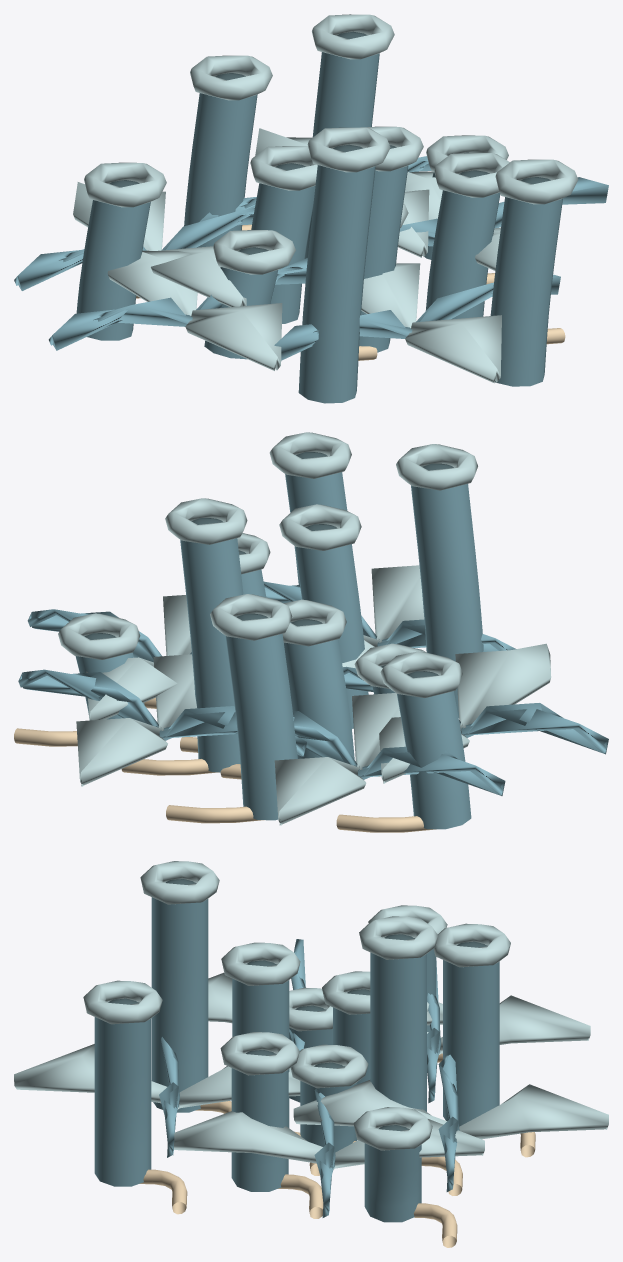
File: bio_thermal_colony_10_far.glb
3 renders of one model, top to bottom at view 1: azimuth 30°, elevation 25°; view 2: azimuth 150°, elevation 25°; view 3: azimuth 270°, elevation 25°, orthographic. The views are drawn at different scales.
Visible parts, largest first — view 1: Chimney biofilm.007, Chimney biofilm.010, Chimney biofilm.006, Low buttress leaf.017, Low buttress leaf.009, Chimney biofilm.009, Chimney biofilm.005, Low buttress leaf.005, Chimney biofilm.003, Chimney biofilm.001, Low buttress leaf.016, Chimney biofilm.002 (+17 smaller); view 2: Chimney biofilm.007, Chimney biofilm.006, Chimney biofilm.003, Chimney biofilm.009, Low buttress leaf.005, Low buttress leaf.017, Low buttress leaf.013, Low buttress leaf.012, Chimney biofilm.001, Chimney biofilm.002, Low buttress leaf.004, Low buttress leaf.001 (+21 smaller); view 3: Chimney biofilm.007, Chimney biofilm.010, Chimney biofilm.003, Chimney biofilm.006, Low buttress leaf.013, Low buttress leaf.001, Chimney biofilm.005, Low buttress leaf.009, Chimney biofilm.008, Low buttress leaf.005, Chimney biofilm.002, Open vent rim.002 (+23 smaller).
Boxes of the visible parts, bbox=[...] form: Chimney biofilm.007: bbox=[298, 165, 375, 403]; Chimney biofilm.010: bbox=[490, 197, 562, 386]; Chimney biofilm.006: bbox=[184, 93, 257, 247]; Low buttress leaf.017: bbox=[107, 250, 282, 370]; Low buttress leaf.009: bbox=[361, 263, 501, 383]; Chimney biofilm.009: bbox=[76, 200, 150, 340]; Chimney biofilm.005: bbox=[425, 190, 500, 319]; Low buttress leaf.005: bbox=[73, 182, 246, 307]; Chimney biofilm.003: bbox=[305, 52, 379, 258]; Chimney biofilm.001: bbox=[251, 183, 315, 323]; Low buttress leaf.016: bbox=[48, 258, 307, 350]; Chimney biofilm.002: bbox=[359, 166, 408, 352]; Chimney biofilm.007: bbox=[411, 484, 483, 718]; Chimney biofilm.006: bbox=[225, 616, 297, 820]; Chimney biofilm.003: bbox=[180, 521, 243, 772]; Chimney biofilm.009: bbox=[397, 674, 471, 829]; Low buttress leaf.005: bbox=[274, 693, 400, 825]; Low buttress leaf.017: bbox=[379, 643, 551, 783]; Low buttress leaf.013: bbox=[76, 654, 196, 786]; Low buttress leaf.012: bbox=[18, 669, 306, 756]; Chimney biofilm.001: bbox=[284, 622, 354, 759]; Chimney biofilm.002: bbox=[295, 527, 368, 728]; Low buttress leaf.004: bbox=[292, 711, 505, 795]; Low buttress leaf.001: bbox=[86, 595, 191, 720]; Chimney biofilm.007: bbox=[151, 882, 208, 1112]; Chimney biofilm.010: bbox=[94, 1002, 151, 1186]; Chimney biofilm.003: bbox=[370, 938, 426, 1111]; Chimney biofilm.006: bbox=[443, 945, 499, 1126]; Low buttress leaf.013: bbox=[293, 1080, 608, 1139]; Low buttress leaf.001: bbox=[174, 1111, 484, 1169]; Chimney biofilm.005: bbox=[231, 1053, 288, 1191]; Low buttress leaf.009: bbox=[14, 1044, 300, 1109]; Chimney biofilm.008: bbox=[364, 1128, 421, 1222]; Low buttress leaf.005: bbox=[427, 995, 590, 1054]; Chimney biofilm.002: bbox=[232, 964, 289, 1127]; Open vent rim.002: bbox=[221, 942, 300, 985].
Size of the model in its own units: 2.22 by 0.9503 by 2.09.
